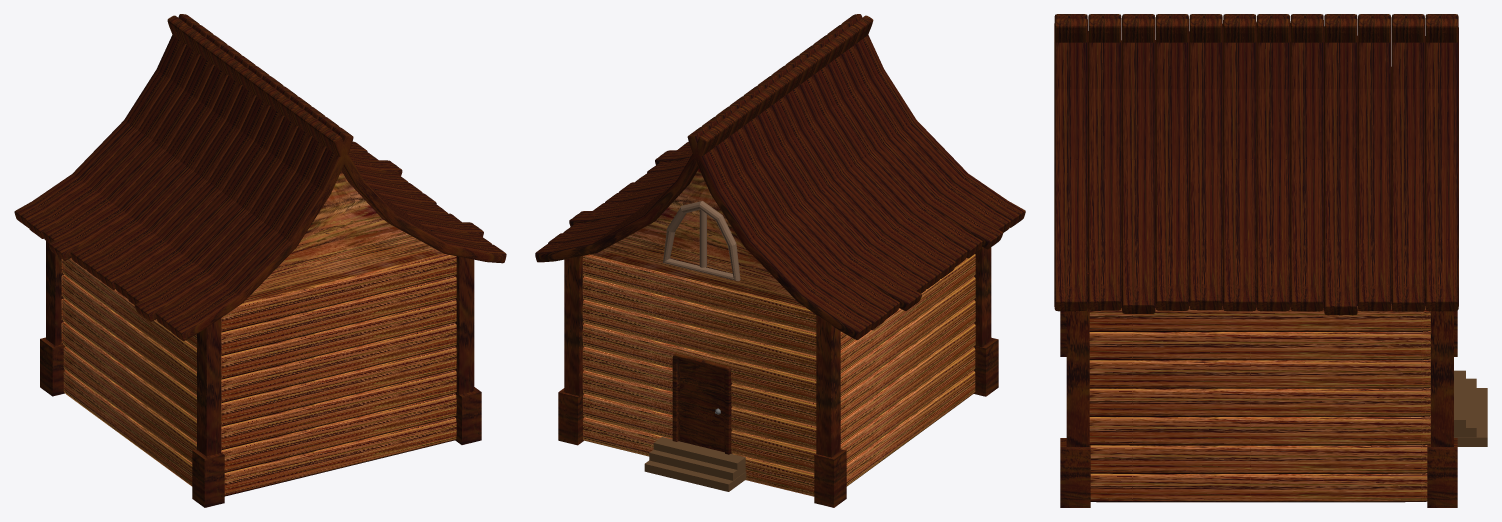
The model's file is trythiscabinFinal.fbx.
3 renders of one model, left to right at view 1: azimuth 30°, elevation 25°; view 2: azimuth 150°, elevation 25°; view 3: azimuth 270°, elevation 25°, orthographic. The views are drawn at different scales.
Parts seen in each view (by area): view 1: Cube.006, Cube.010, Cube.005, Cube.007, Plane.004, Cube.017, Cube.016, Cube.014, Cube.009, Cube.015, Cube.011; view 2: Cube.006, Cube.003, Cube.005, Cube.007, Plane, Plane.001, Cube.012, Cube.009, Cube.008, Circle.003, Cube.011, Cube.017 (+2 smaller); view 3: Cube.007, Cube.004, Cube.006, Cube.016, Cube.008, Cube.012, Cube.015, Cube.013.
Boxes of the visible parts, x1,y1,x2,y2 form: Cube.006: (14,14,353,340); Cube.010: (221,254,456,496); Cube.005: (62,258,221,486); Cube.007: (167,15,506,263); Plane.004: (243,171,443,302); Cube.017: (197,318,221,456); Cube.016: (455,240,474,394); Cube.014: (192,449,224,507); Cube.009: (46,241,63,345); Cube.015: (455,387,481,444); Cube.011: (40,337,65,396); Cube.006: (687,14,1025,340); Cube.003: (582,254,816,496); Cube.005: (840,254,975,486); Cube.007: (535,15,873,262); Plane: (590,169,804,307); Plane.001: (672,353,732,454); Cube.012: (644,437,746,491); Cube.009: (816,315,840,457); Cube.008: (564,256,583,395); Circle.003: (663,201,740,281); Cube.011: (814,449,846,507); Cube.017: (974,247,991,347); Cube.007: (1054,14,1458,315); Cube.004: (1089,302,1430,502); Cube.006: (1054,18,1458,83); Cube.016: (1066,270,1089,446); Cube.008: (1431,311,1453,446); Cube.012: (1454,370,1487,446); Cube.015: (1060,438,1090,507); Cube.013: (1427,438,1457,507).
Bounding box in the file's own units: 2369 × 2252 × 2162.
5 materials, 2 textured.
